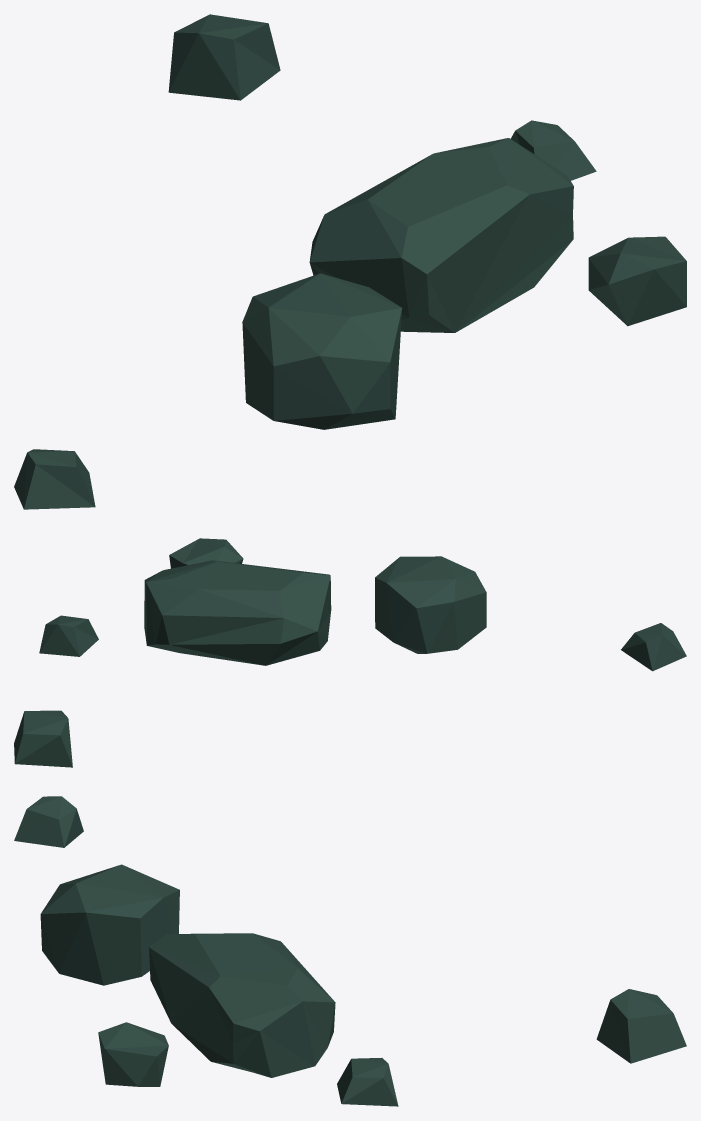
The model's file is rock_02.FBX.
3 views of the same model, one above another, from view 1: azimuth 30°, elevation 25°; view 2: azimuth 150°, elevation 25°; view 3: azimuth 270°, elevation 25° (orthographic). The views are drawn at different scales.
Visible parts, largest first — view 1: rock_02; view 2: rock_02; view 3: rock_02.
Part boxes in pixels (x1,y1,x2,y2): rock_02: (14,14,686,509); rock_02: (14,538,686,767); rock_02: (14,796,686,1106).
Bounding box in the file's own units: 16.58 × 2.19 × 16.46.
